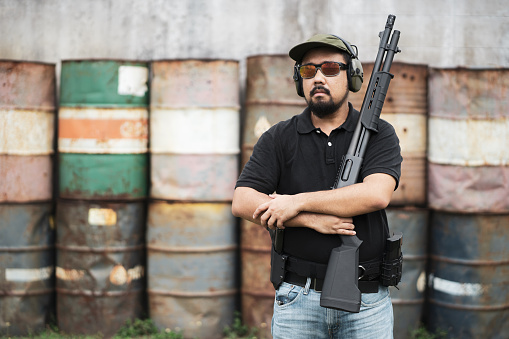weapon: (319, 14, 401, 315)
